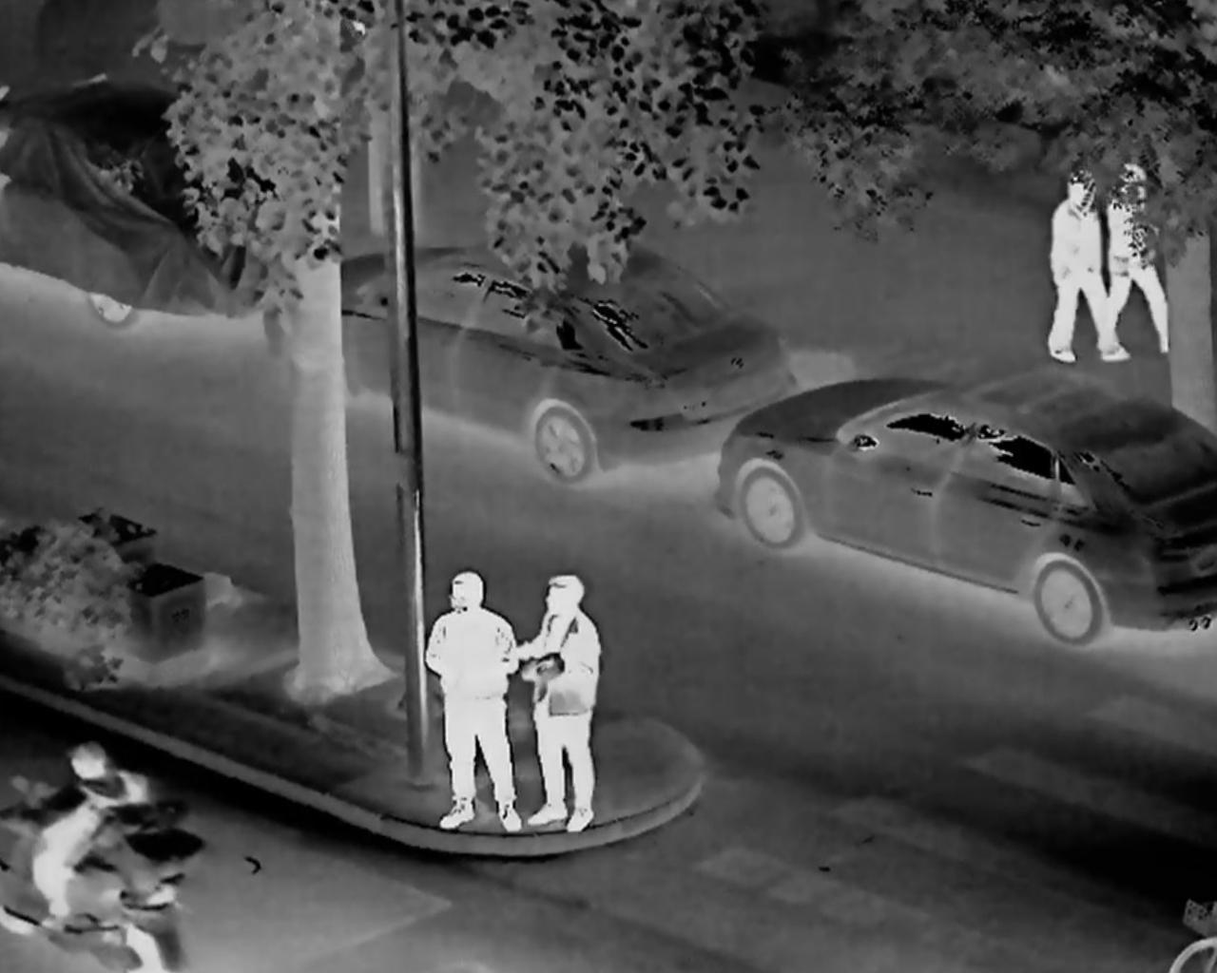person: (415, 556, 531, 841), (522, 567, 608, 822), (1086, 152, 1185, 359), (1022, 169, 1119, 372), (60, 737, 161, 927)
